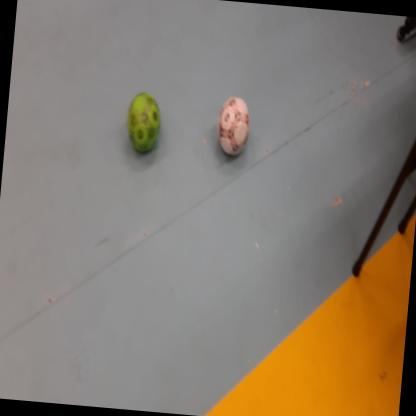ball: (126, 90, 162, 156), (215, 96, 252, 160)
